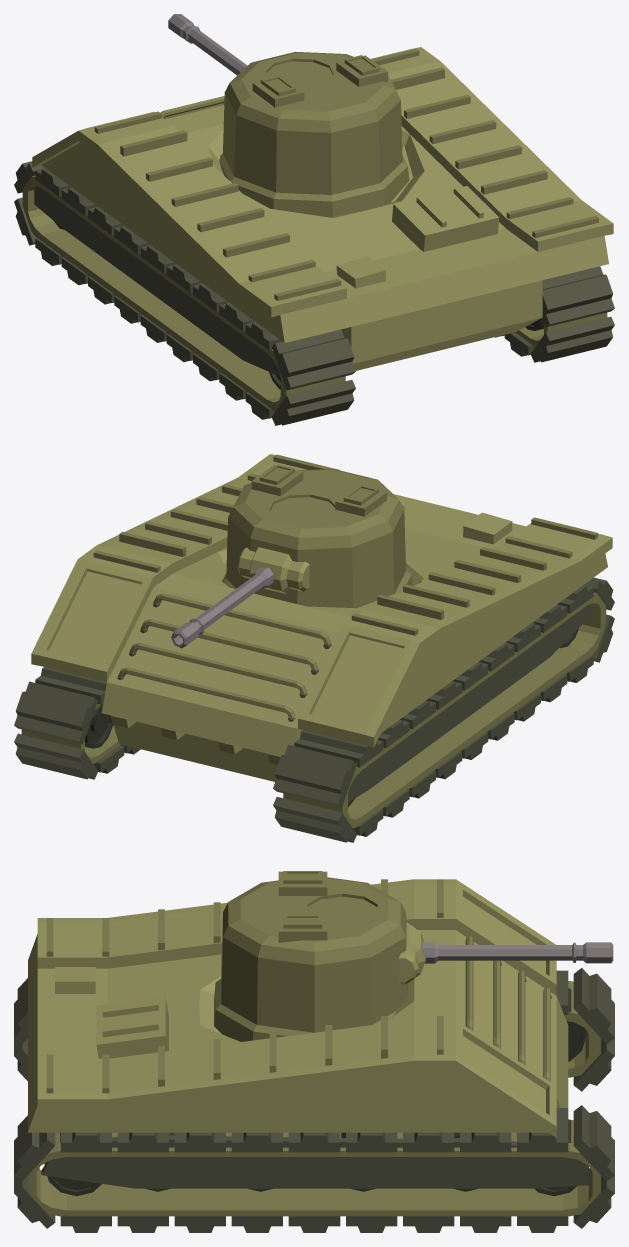
File: tank_heavy_target.glb
The picture shows the model from 3 angles, top to bottom: view 1: azimuth 30°, elevation 25°; view 2: azimuth 150°, elevation 25°; view 3: azimuth 270°, elevation 25°; orthographic projection. The views are drawn at different scales.
Visible parts, largest first — view 1: Hull, TurretMesh, TrackLeft, TrackRight, BarrelMesh; view 2: Hull, TurretMesh, TrackLeft, TrackRight, BarrelMesh; view 3: Hull, TurretMesh, TrackRight, TrackLeft, BarrelMesh.
Part boxes in pixels (x1,y1,x2,y2): Hull: (22,47,613,411); TurretMesh: (219,51,409,217); TrackLeft: (14,161,355,425); TrackRight: (495,266,614,362); BarrelMesh: (168,14,247,75); Hull: (21,454,612,828); TurretMesh: (222,464,412,608); TrackLeft: (273,577,614,842); TrackRight: (14,667,140,779); BarrelMesh: (171,567,273,648); Hull: (28,879,600,1216); TurretMesh: (214,871,425,1041); TrackRight: (14,1105,614,1232); TrackLeft: (14,968,614,1091); BarrelMesh: (422,942,613,963).
Size of the model in its own units: 3.8 by 2.43 by 5.31.
